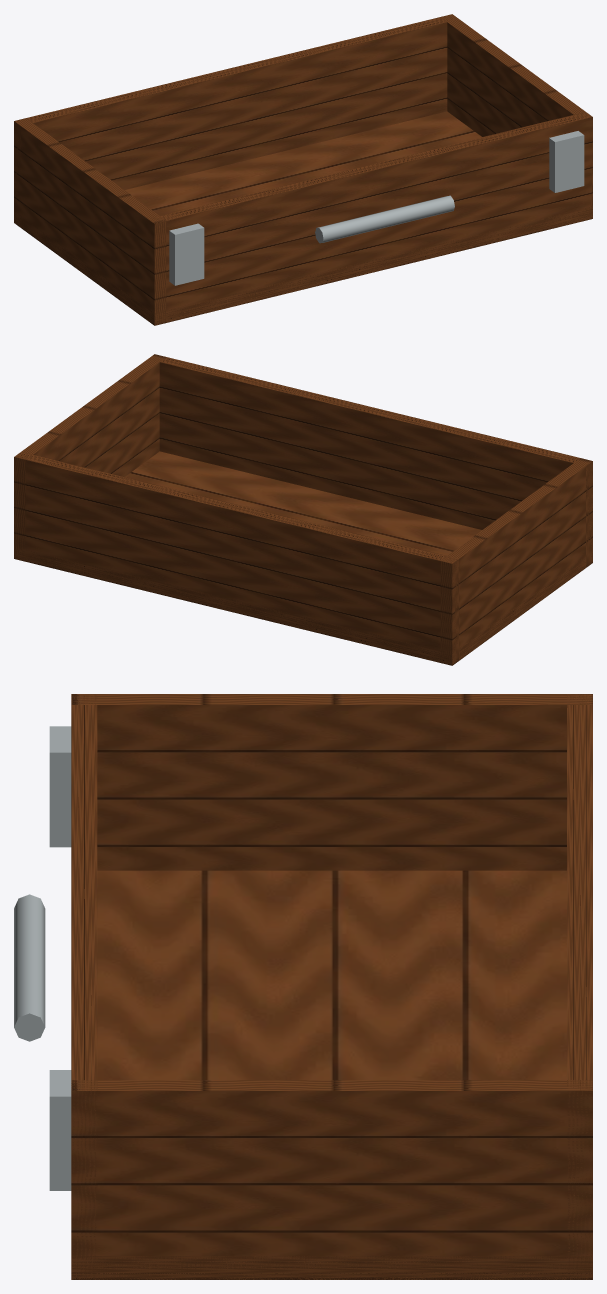
File: suburban-outbreak-interiors-wardrobe-shoe-drawer-8436e102__19947.glb
3 views of the same model, one above another, from view 1: azimuth 30°, elevation 25°; view 2: azimuth 150°, elevation 25°; view 3: azimuth 270°, elevation 25° (orthographic). The views are drawn at different scales.
Visible parts, largest first — view 1: wardrobe-shoe-drawer; view 2: wardrobe-shoe-drawer; view 3: wardrobe-shoe-drawer.
Part boxes in pixels (bbox=[...]): wardrobe-shoe-drawer: bbox=[14, 14, 592, 325]; wardrobe-shoe-drawer: bbox=[14, 354, 592, 665]; wardrobe-shoe-drawer: bbox=[14, 694, 592, 1279].
Bounding box in the file's own units: 0.9 × 0.2 × 0.555.
Materials: 2 (1 with a texture image).
